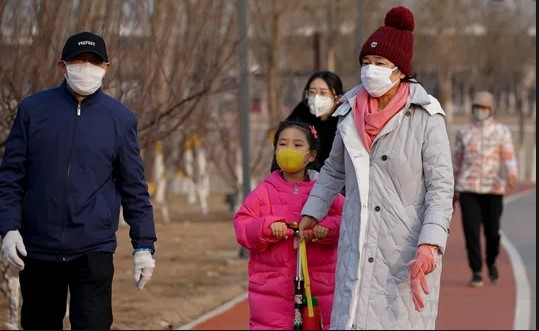face_with_mask: (359, 13, 413, 100), (57, 32, 114, 98), (273, 119, 320, 174), (305, 68, 344, 119), (465, 87, 496, 124)
